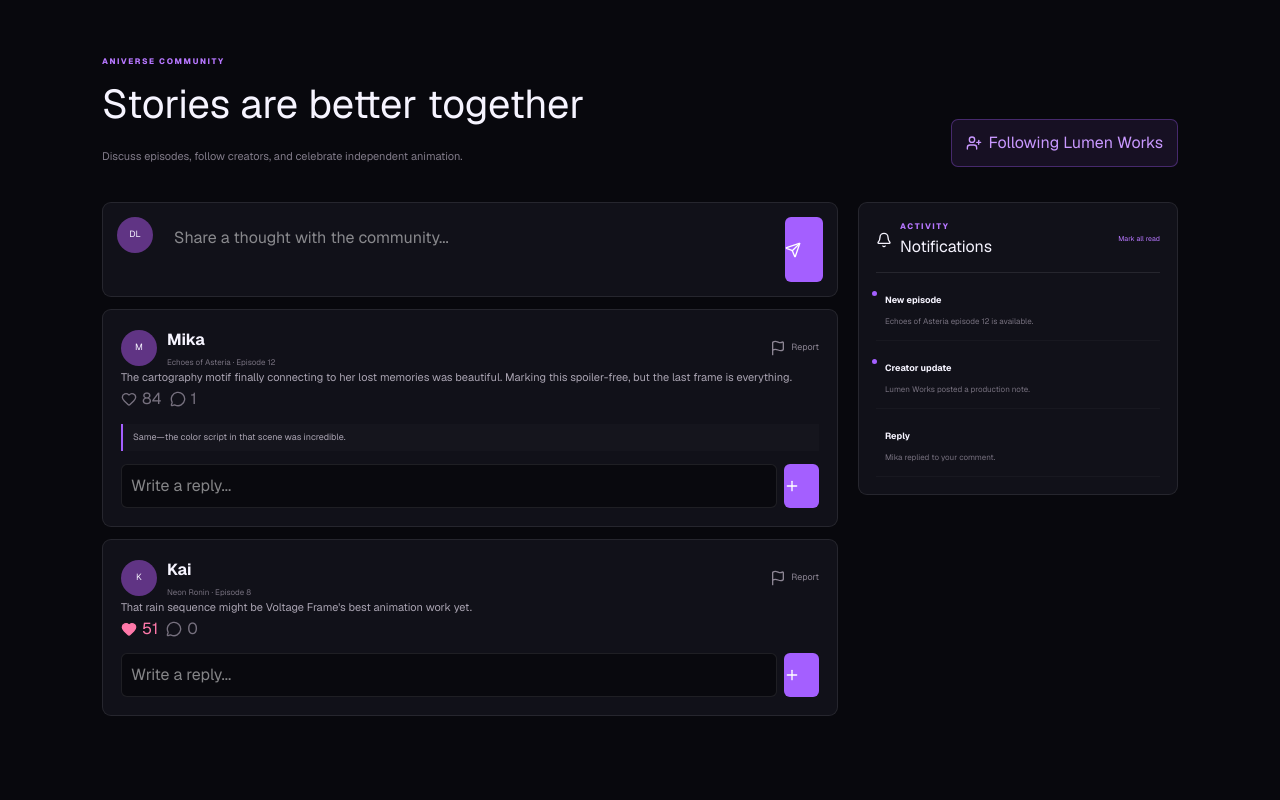
Test: community feed › opens a confidential report flow for a post
Click the button with aria-label "Report:".
click(795, 348)  # box [770,336,819,360]
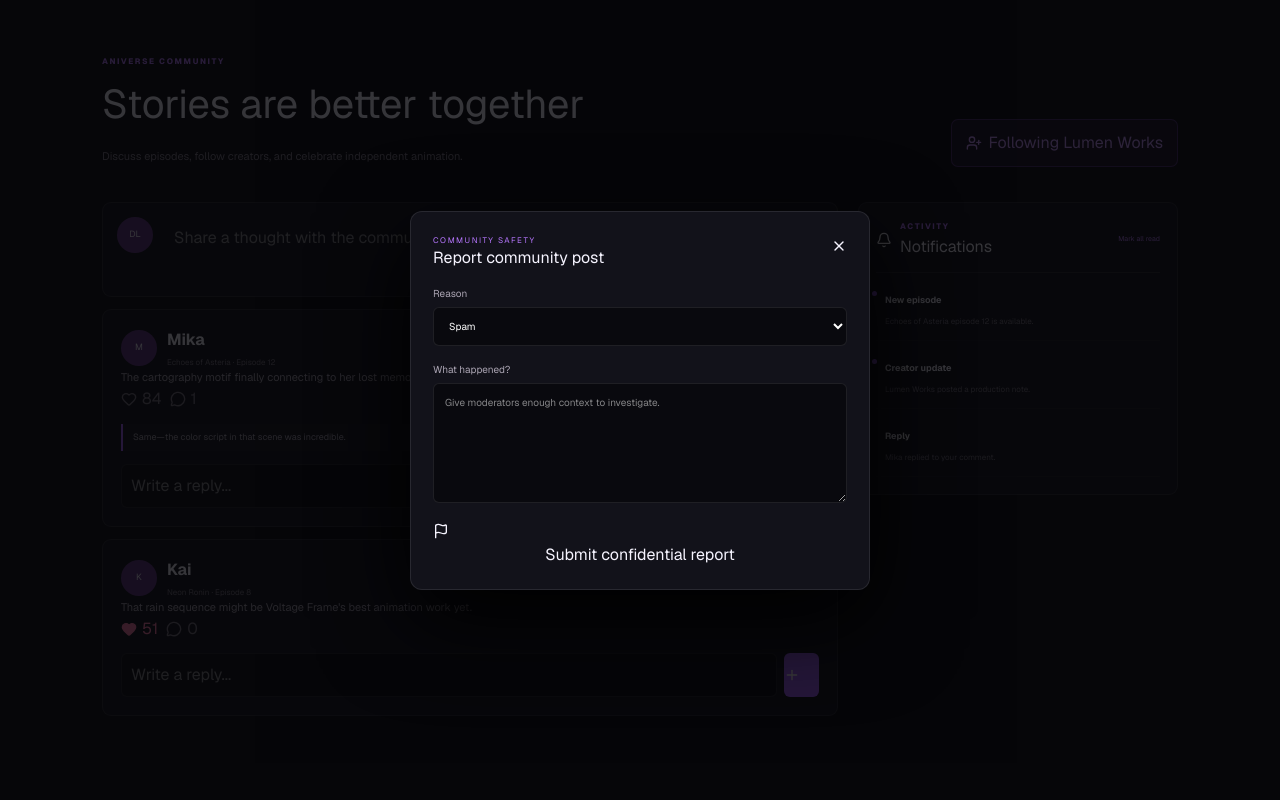
expect the dialog "Report community post" is shown: met
Type "This contains repeated targeted harassment." into the text box labelled "What happened?".
click(640, 442); type("This contains repeated targeted harassment.")  # box [433,382,847,502]
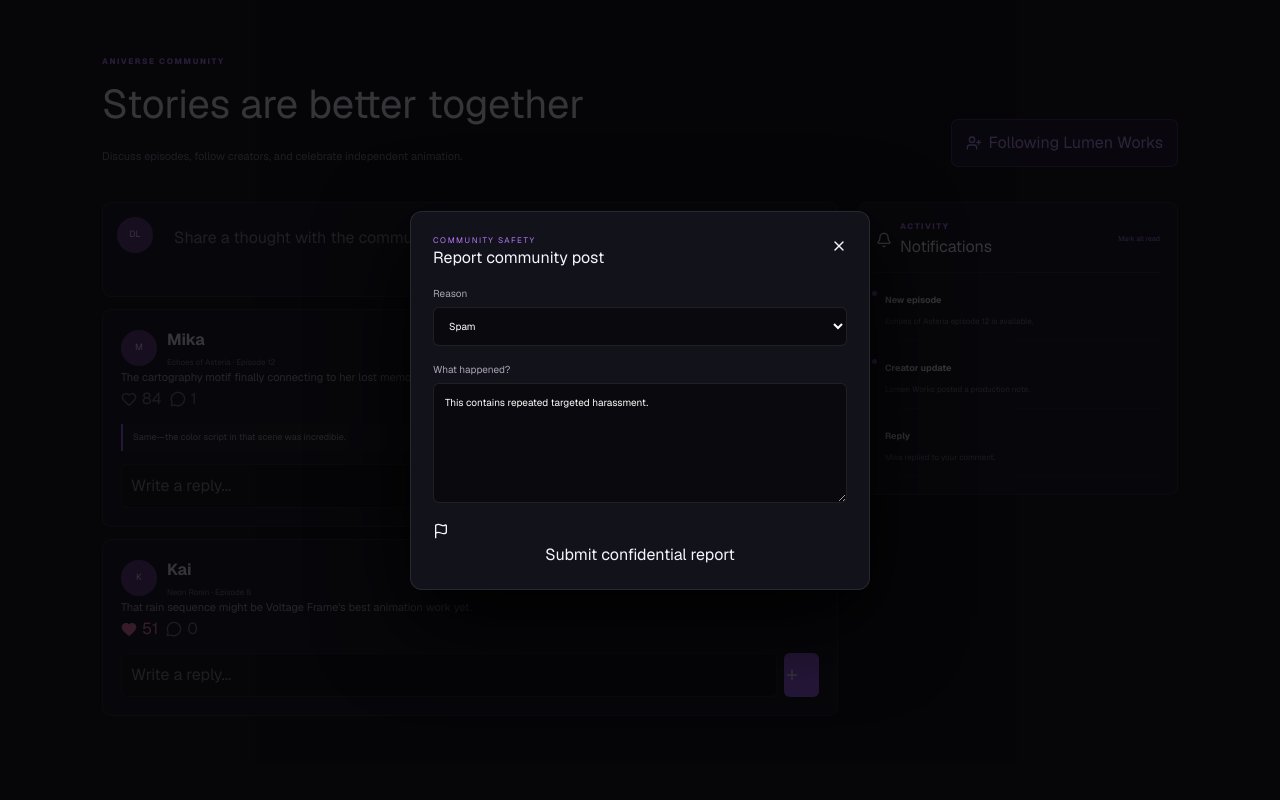
Click the button "Submit confidential report".
click(640, 542)  # box [433,518,847,566]
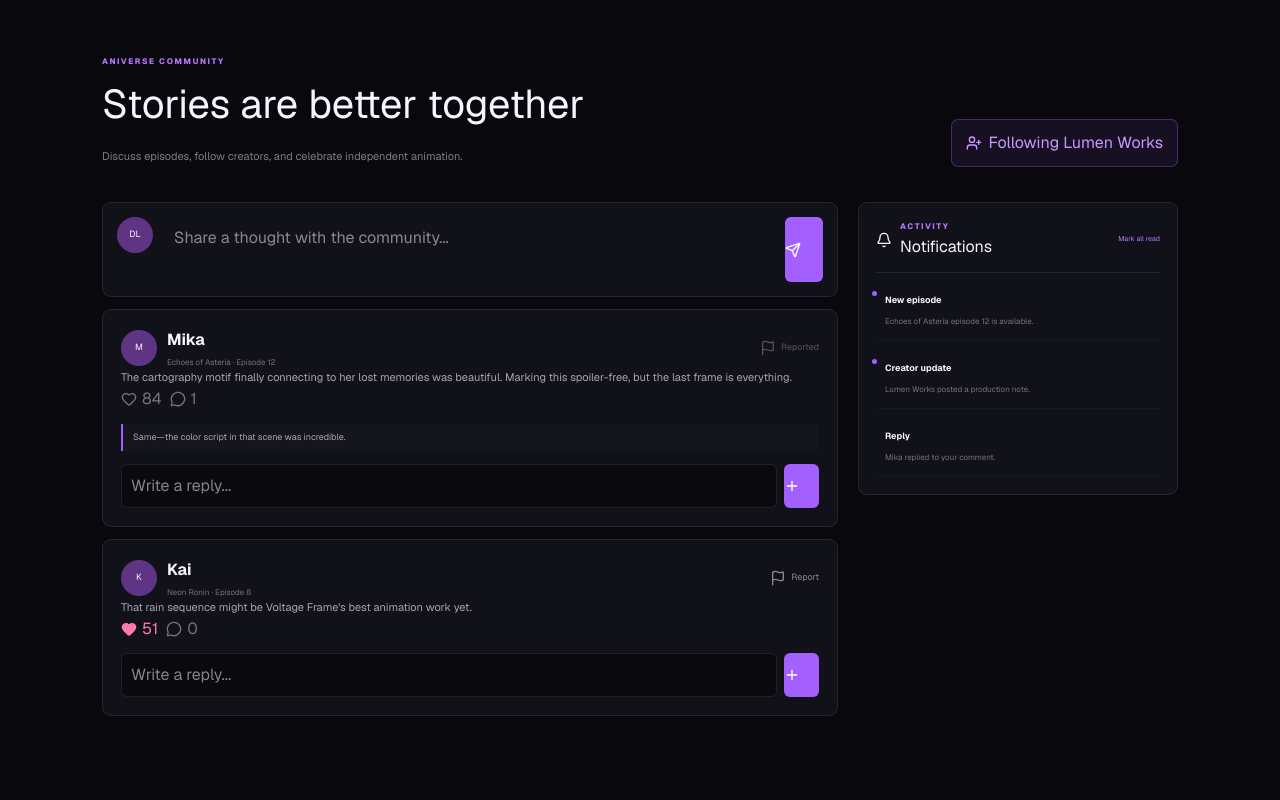
expect the dialog is gone: met
expect the button with aria-label "Report:" is disabled: met, box [760,336,819,360]
